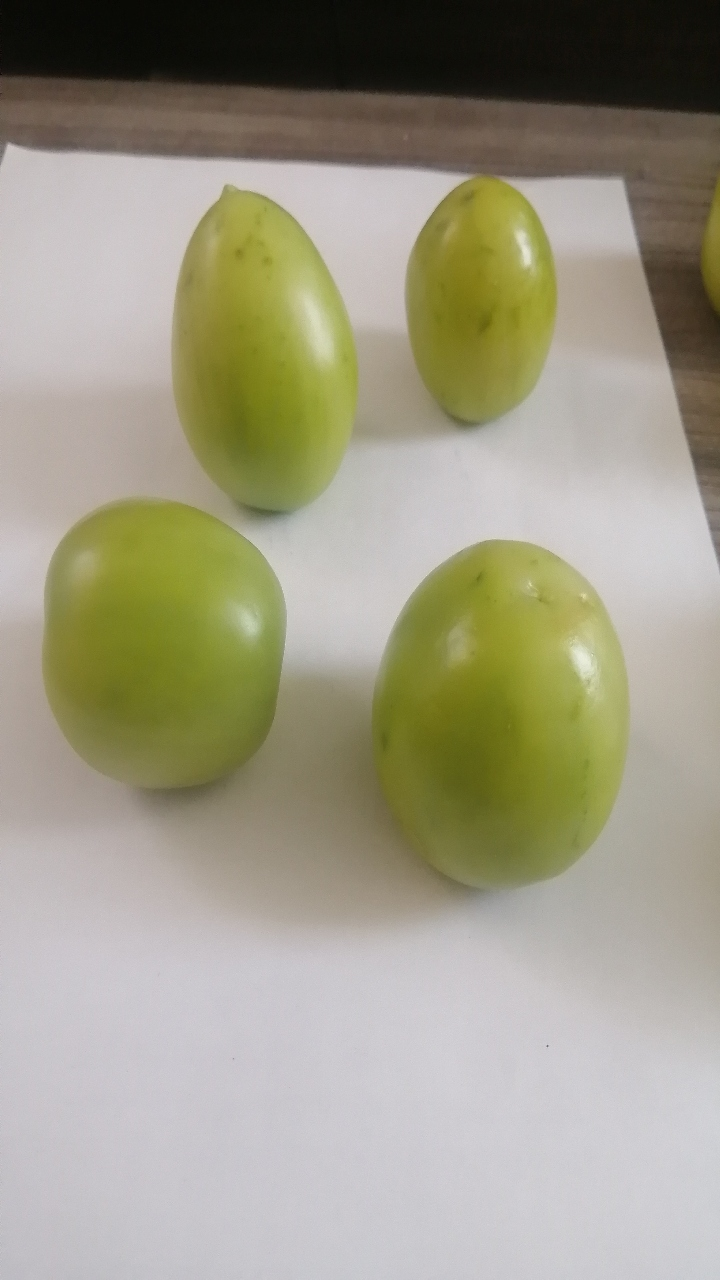tomateVerde: (357, 526, 641, 906), (23, 485, 295, 822), (146, 163, 378, 535), (389, 172, 583, 445)
